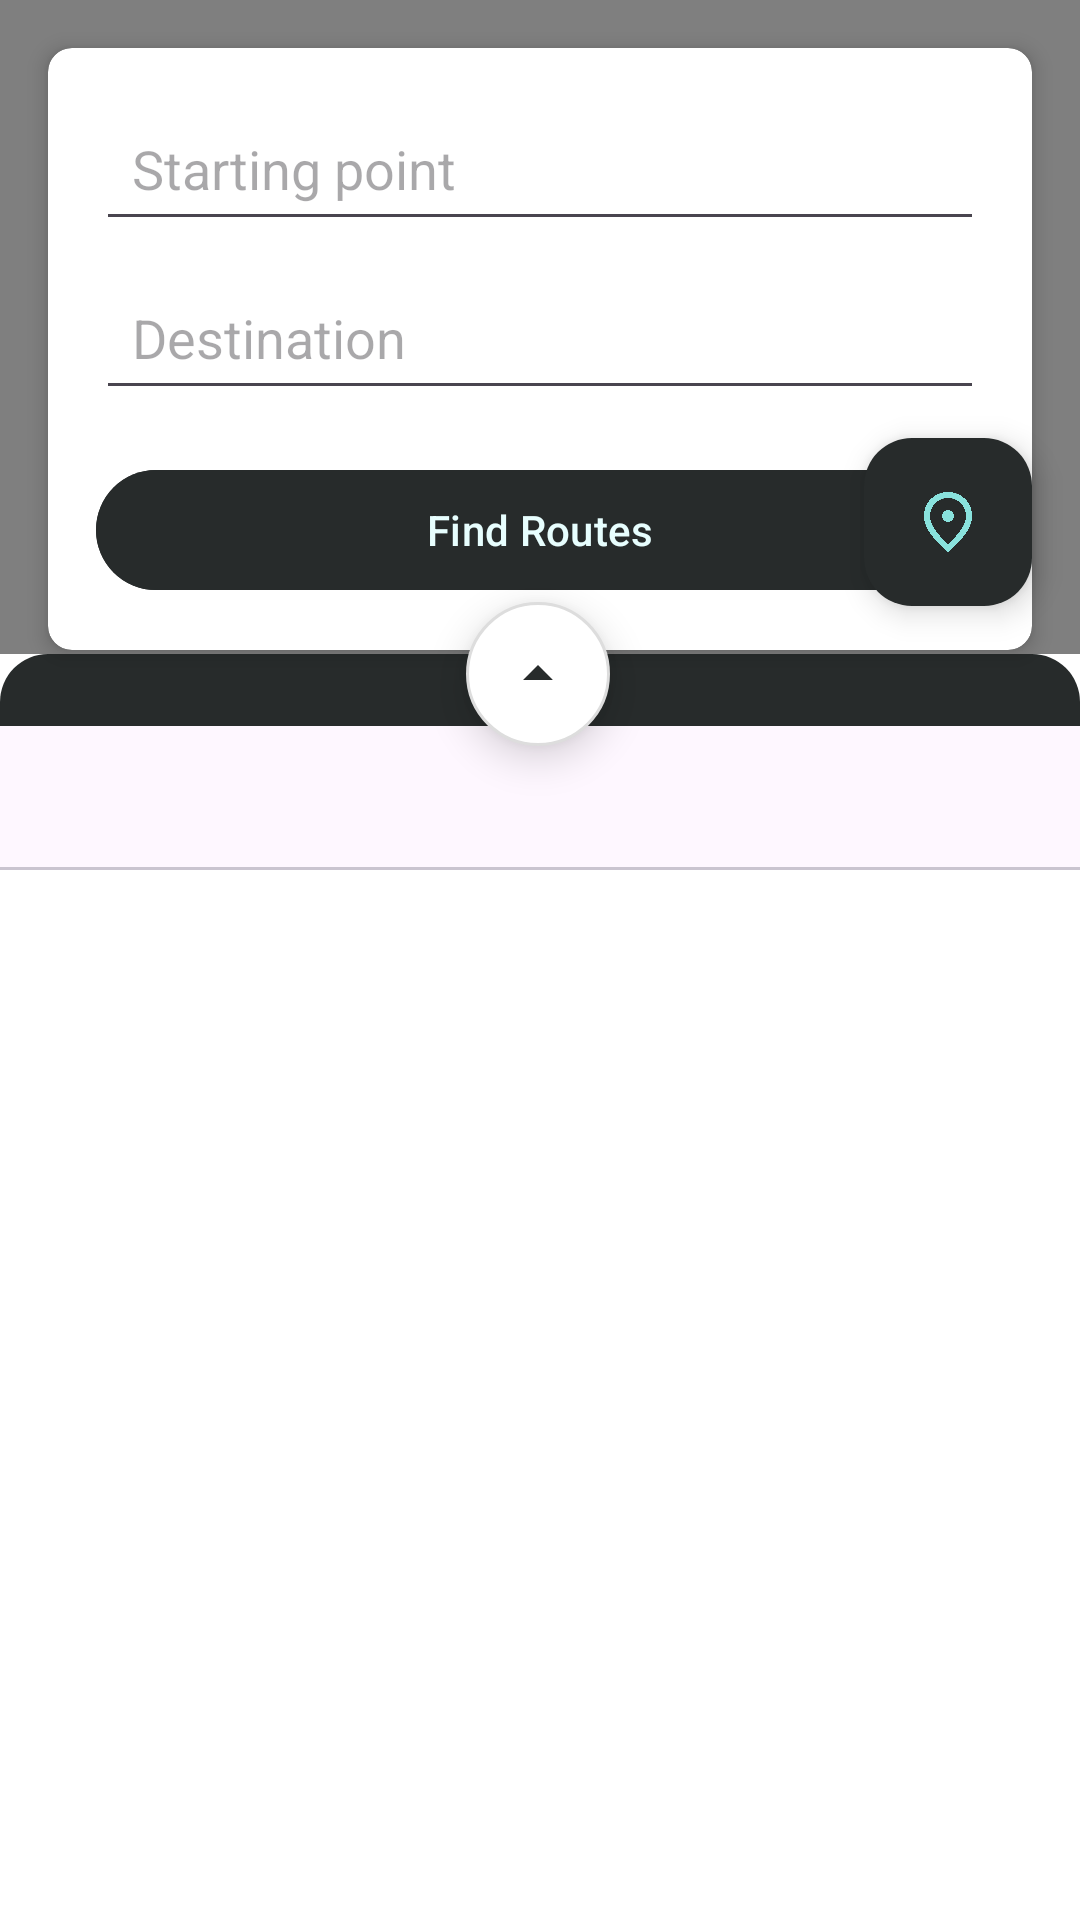

Icons on this 1080w x 1920h Android screen, each with the point to tap as [x,y]:
loc: [948,522]
